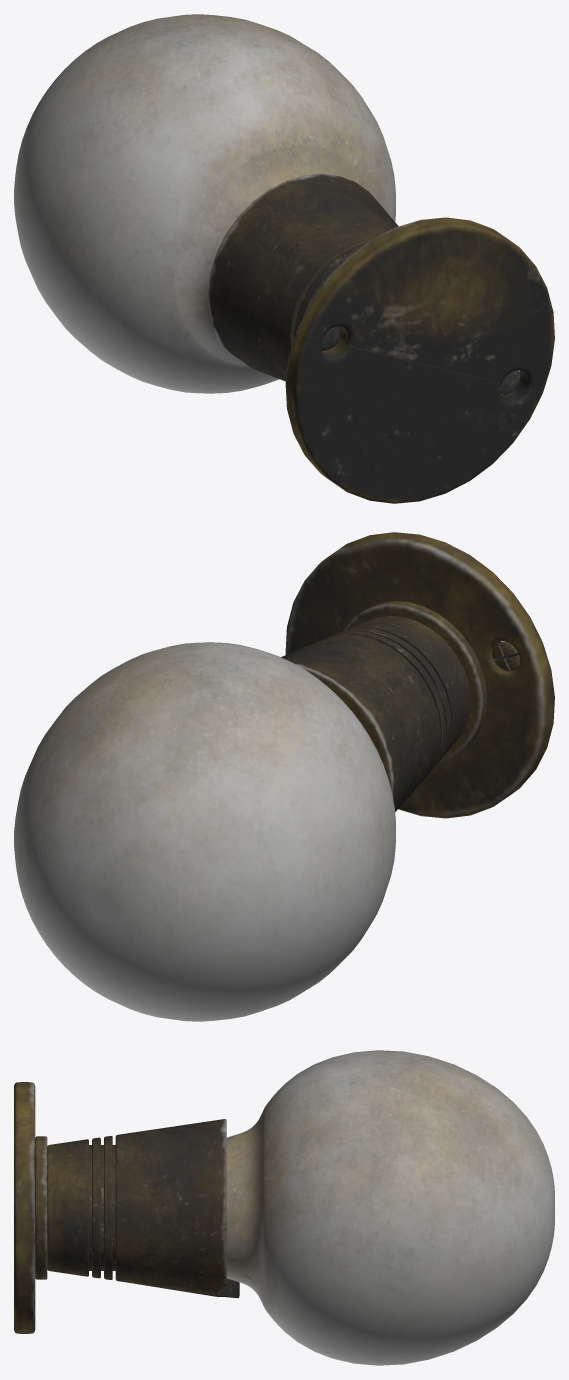
Rendered from lamp.fbx.
3 renders of one model, top to bottom at view 1: azimuth 30°, elevation 25°; view 2: azimuth 150°, elevation 25°; view 3: azimuth 270°, elevation 25°, orthographic. The views are drawn at different scales.
Parts seen in each view (by area): view 1: Sphere.001, Sphere; view 2: Sphere.001, Sphere; view 3: Sphere.001, Sphere.
Boxes of the visible parts, <box> form: Sphere.001: <box>14,14,395,393</box>; Sphere: <box>208,174,554,503</box>; Sphere.001: <box>14,642,395,1021</box>; Sphere: <box>281,532,554,818</box>; Sphere.001: <box>226,1050,554,1365</box>; Sphere: <box>14,1082,239,1333</box>.
Size of the model in its own units: 92.79 by 92.79 by 159.
